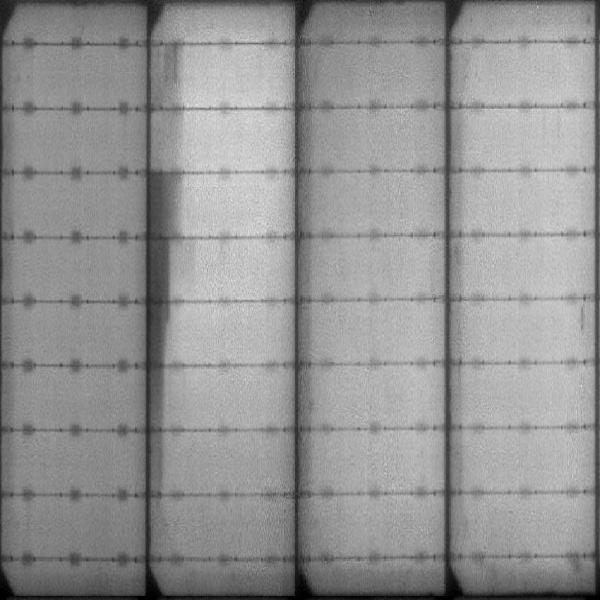black_border: (144, 165, 168, 429)
